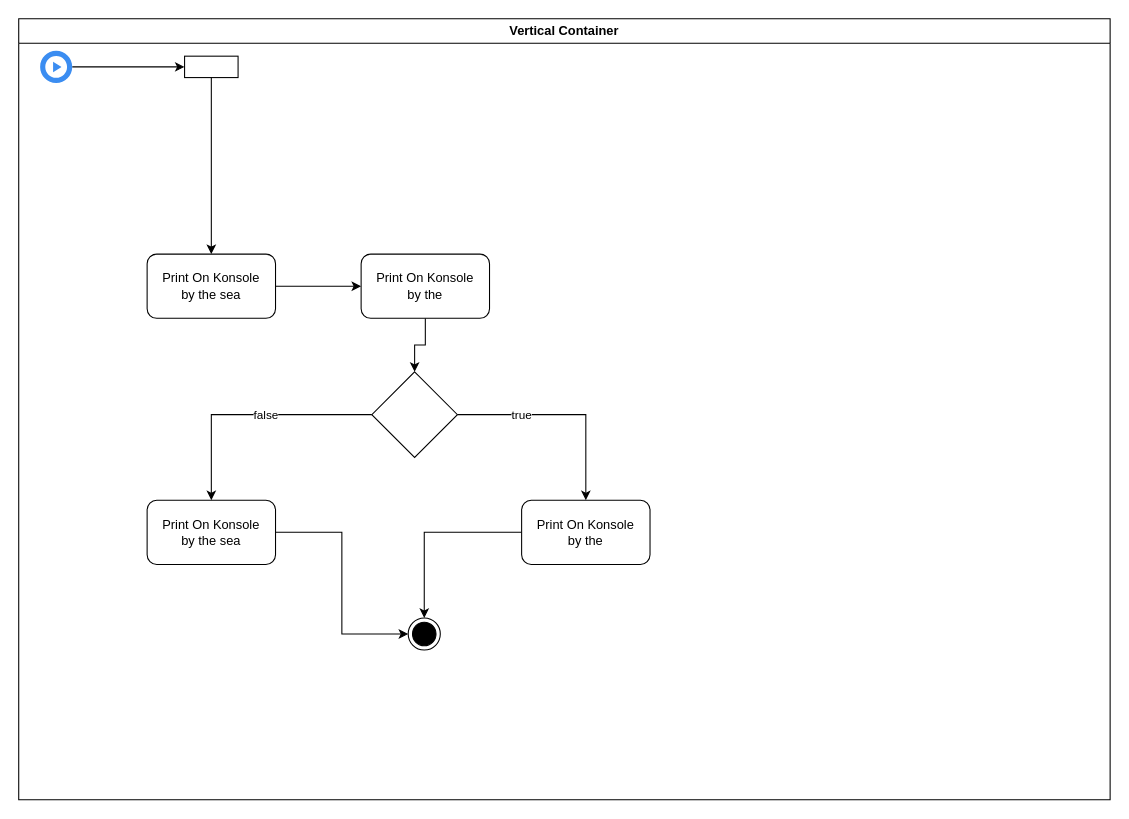
The diagram is 1129 pixels wide and 819 high, and some of its shapes have lost their labels. The centre of each missing label's shape, as x and y in pixels:
"Input" goes at point 211,66.
"Seien" goes at point 414,414.
